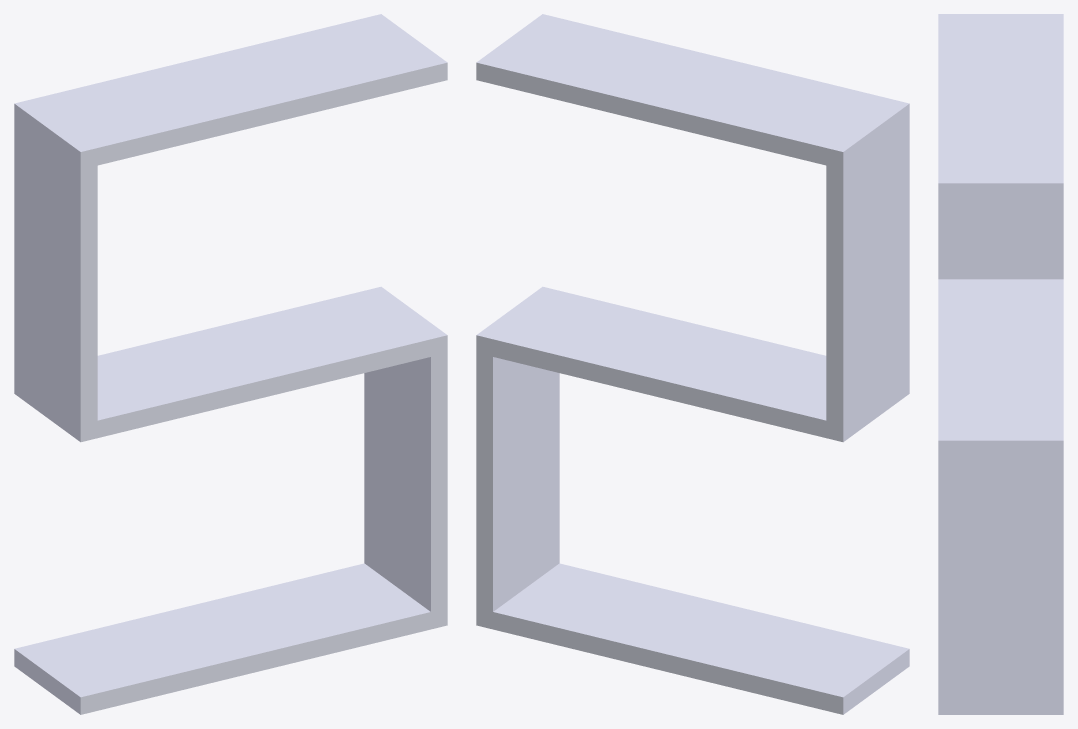
3 renders of one model, left to right at view 1: azimuth 30°, elevation 25°; view 2: azimuth 150°, elevation 25°; view 3: azimuth 270°, elevation 25°, orthographic. The views are drawn at different scales.
Visible parts, largest first — view 1: s_AlphaProta_Grey; view 2: s_AlphaProta_Grey; view 3: s_AlphaProta_Grey.
Part boxes in pixels (box(x1,y1,x2,y2)): s_AlphaProta_Grey: box(14, 14, 447, 714); s_AlphaProta_Grey: box(476, 14, 909, 714); s_AlphaProta_Grey: box(938, 14, 1063, 714).
Size of what is drawn, in the model's own units: 0.1436 by 0.2105 by 0.045.
2 materials, 2 textured.
